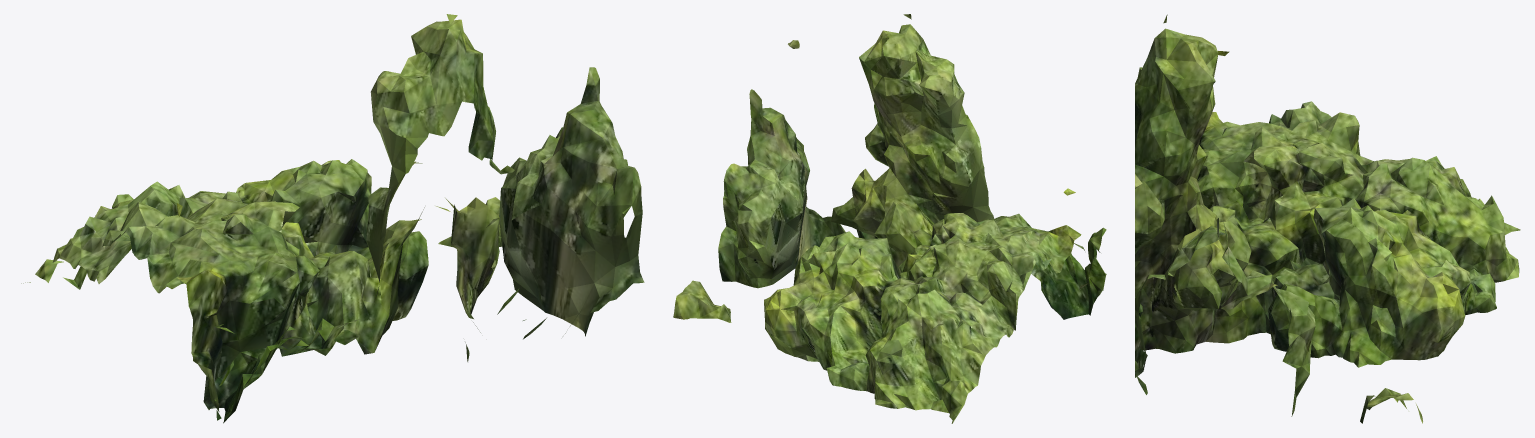
3 views of the same model, side by side, from view 1: azimuth 30°, elevation 25°; view 2: azimuth 150°, elevation 25°; view 3: azimuth 270°, elevation 25° (orthographic). The views are drawn at different scales.
Size of the model in its own units: 26.11 by 20.51 by 21.91.
Materials: 4 (4 with a texture image).
